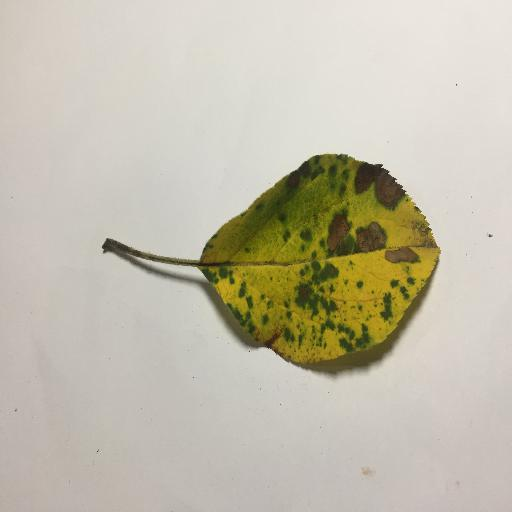Brown_Spot: (261, 327, 310, 366), (350, 220, 391, 249), (331, 215, 351, 255), (375, 176, 405, 201), (301, 280, 322, 308), (382, 253, 427, 264), (358, 167, 378, 187)
